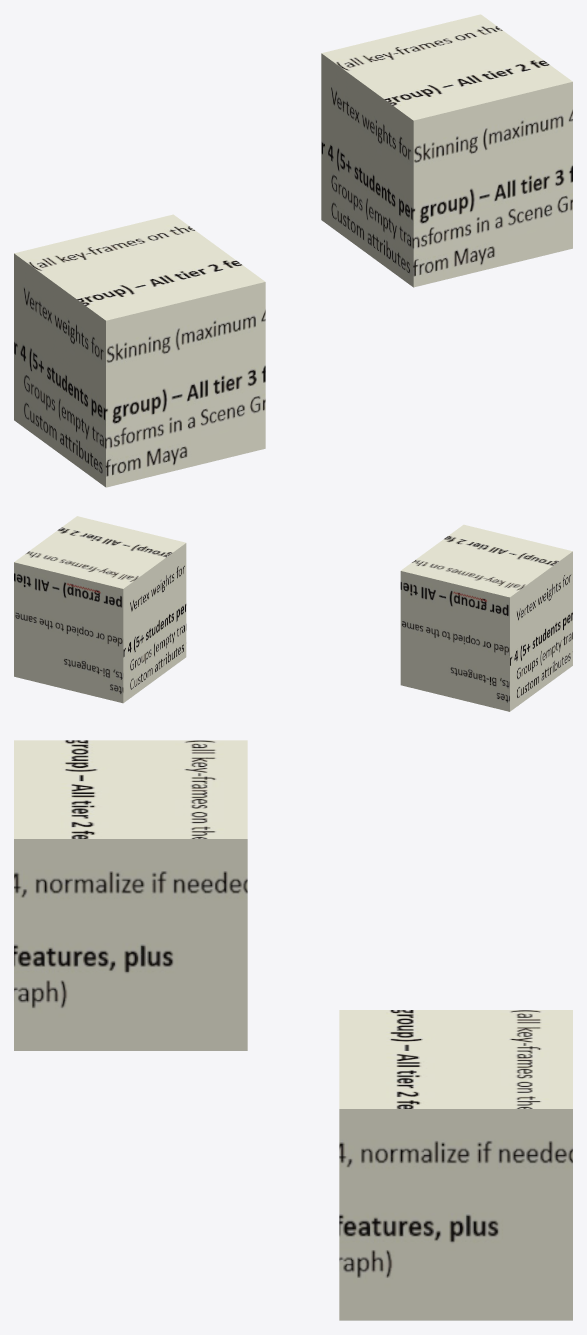
File: texTest.fbx
3 views of the same model, one above another, from view 1: azimuth 30°, elevation 25°; view 2: azimuth 150°, elevation 25°; view 3: azimuth 270°, elevation 25° (orthographic). The views are drawn at different scales.
Parts seen in each view (by area): view 1: pCube1, pCube2; view 2: pCube1, pCube2; view 3: pCube1, pCube2.
Boxes of the visible parts, x1,y1,x2,y2 form: pCube1: (321, 14, 572, 287); pCube2: (14, 214, 265, 487); pCube1: (14, 516, 186, 703); pCube2: (400, 524, 572, 711); pCube1: (339, 1010, 572, 1320); pCube2: (14, 740, 247, 1050).
Bounding box in the file's own units: 3.73 × 1 × 2.39.
Materials: 2 (2 with a texture image).
